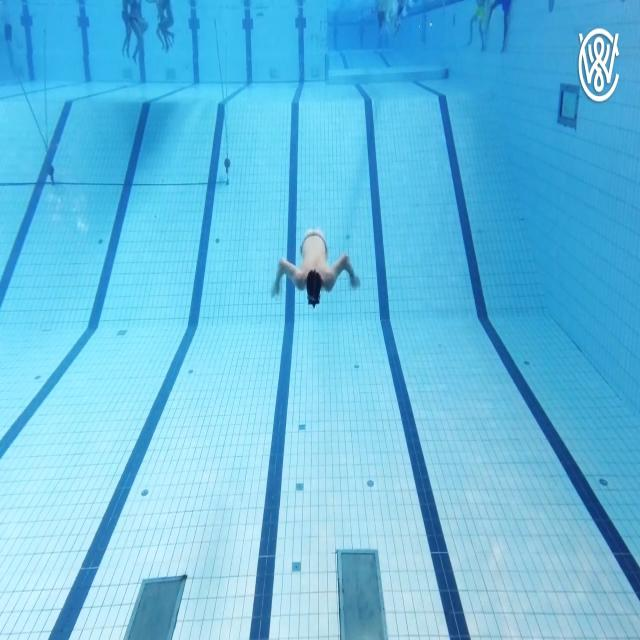Swimming: (271, 228, 359, 310)
